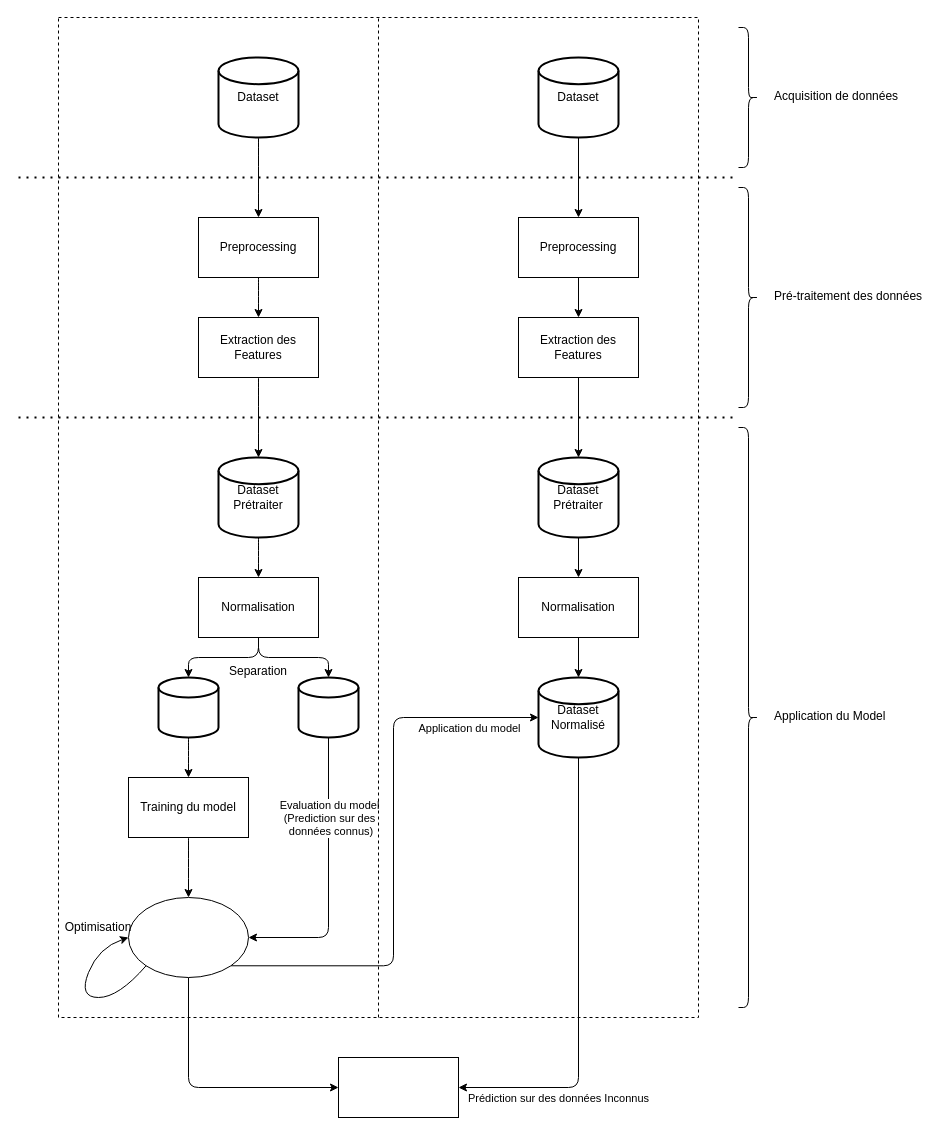
Image size: 945x1135. Some labels were removed from this diagram. Here are the shapes that lost their labels. From the top down, the centre of each, then its label:
At (188,707): "Dataset Training".
At (328,707): "Dataset Test".
At (188,937): "Model".
At (398,1087): "Prediction".
